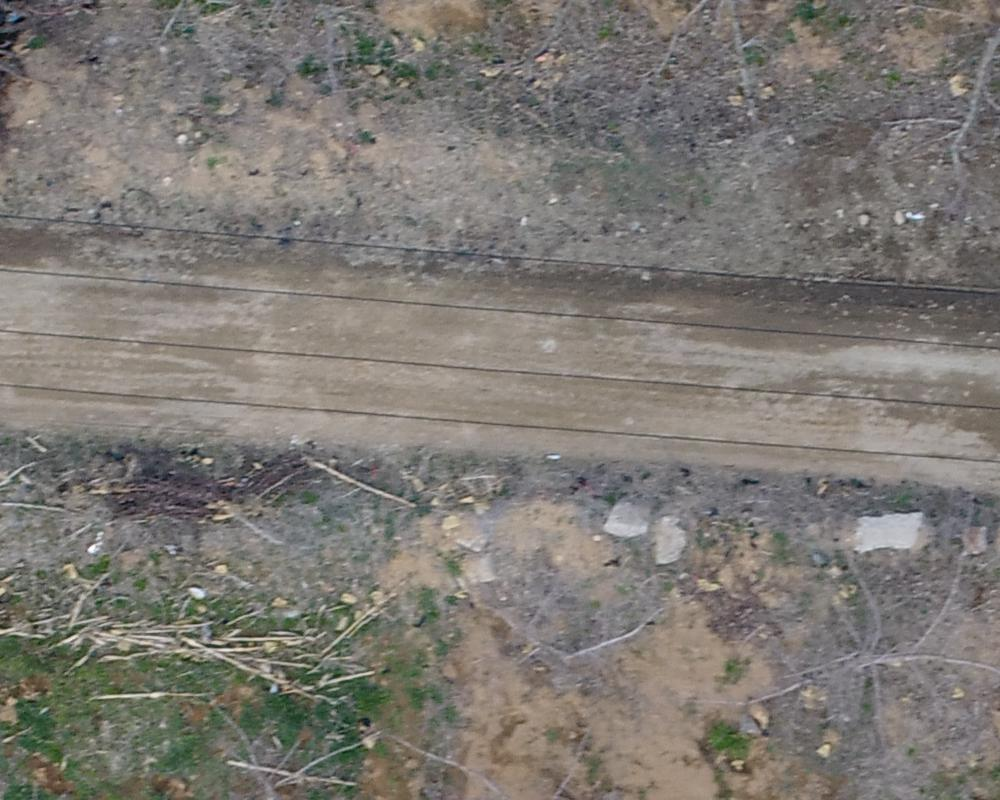apple: (757, 503, 990, 745), (170, 698, 387, 790)
